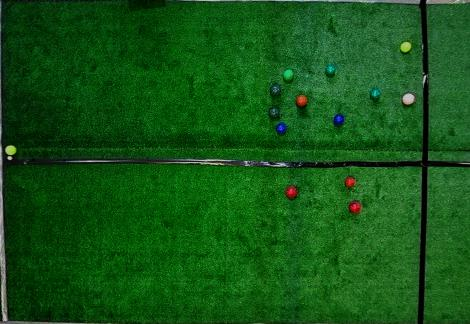blue: (333, 114, 344, 125), (276, 123, 287, 134)
green: (369, 88, 381, 100), (268, 107, 280, 118), (283, 69, 294, 81), (270, 85, 281, 96), (325, 65, 336, 75)
red: (285, 185, 297, 199), (402, 93, 415, 105), (296, 95, 308, 107), (349, 202, 360, 213), (345, 177, 355, 187)
vline: (418, 1, 470, 323), (0, 1, 11, 323)
white: (7, 156, 12, 160)
yellow: (400, 42, 412, 53), (5, 145, 17, 155)
